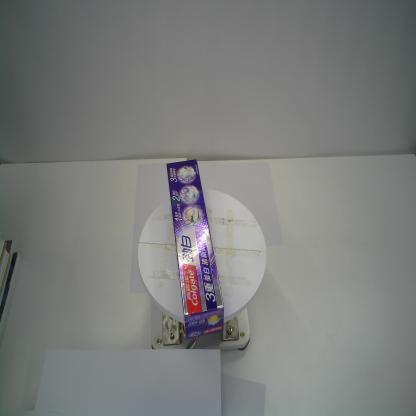Personal Hygiene: (166, 159, 224, 340)
